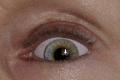eye: (44, 39, 79, 61)
